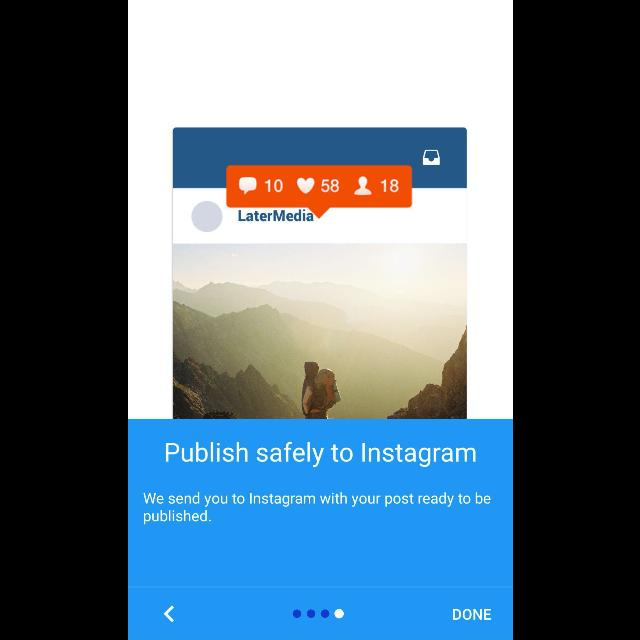icon: (162, 606, 174, 622)
image: (172, 127, 466, 419)
pageindicator: (292, 608, 344, 620)
text: (142, 492, 490, 526), (164, 442, 476, 468), (452, 608, 491, 620)
